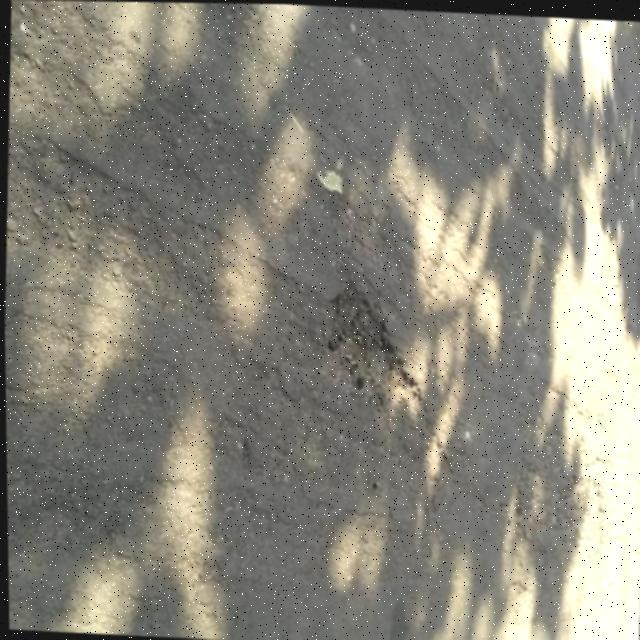Pothole: (314, 274, 427, 412)
